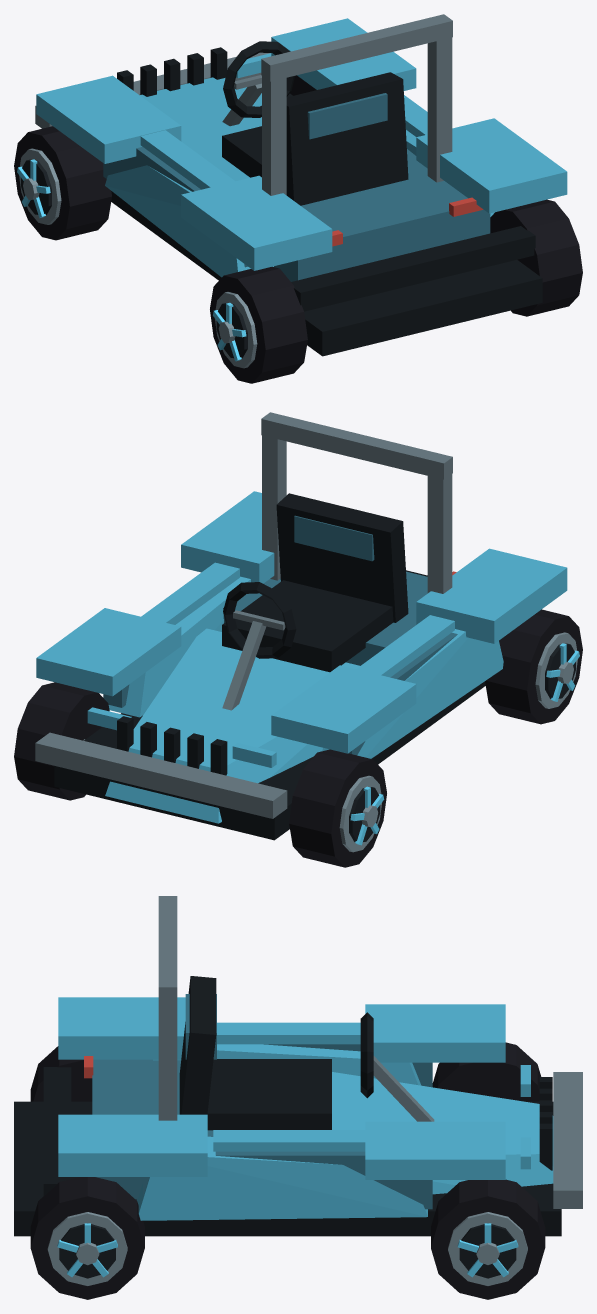
Rendered from kart.glb.
The picture shows the model from 3 angles, top to bottom: view 1: azimuth 30°, elevation 25°; view 2: azimuth 150°, elevation 25°; view 3: azimuth 270°, elevation 25°; orthographic projection. The views are drawn at different scales.
Visible parts, largest first — view 1: chassis, wheel-rear-left, wheel-front-left, wheel-rear-right; view 2: chassis, wheel-front-left, wheel-rear-left, wheel-front-right; view 3: chassis, wheel-rear-right, wheel-front-right, wheel-front-left, wheel-rear-left.
Boxes of the visible parts, x1=… form: chassis: x1=35, y1=14, x2=567, y2=356; wheel-rear-left: x1=210, y1=266, x2=307, y2=383; wheel-front-left: x1=14, y1=126, x2=111, y2=240; wheel-rear-right: x1=490, y1=199, x2=582, y2=316; chassis: x1=35, y1=412, x2=567, y2=840; wheel-front-left: x1=289, y1=749, x2=386, y2=867; wheel-rear-left: x1=485, y1=609, x2=582, y2=724; wheel-front-right: x1=14, y1=682, x2=109, y2=800; chassis: x1=14, y1=896, x2=582, y2=1236; wheel-rear-right: x1=30, y1=1177, x2=144, y2=1299; wheel-front-right: x1=431, y1=1179, x2=545, y2=1299; wheel-front-left: x1=432, y1=1042, x2=541, y2=1101; wheel-rear-left: x1=30, y1=1046, x2=92, y2=1101.
Size of the model in its own units: 2.2 by 1.67 by 3.09.
